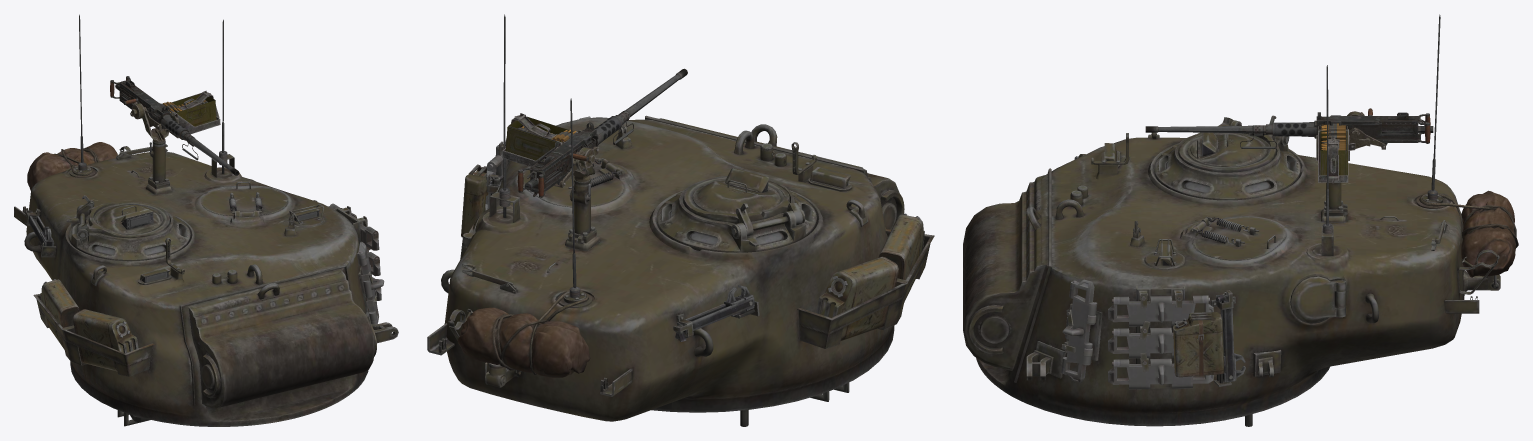
The model's file is turret-m26.glb.
The picture shows the model from 3 angles, left to right: view 1: azimuth 30°, elevation 25°; view 2: azimuth 150°, elevation 25°; view 3: azimuth 270°, elevation 25°; orthographic projection. The views are drawn at different scales.
Visible parts, largest first — view 1: turret; view 2: turret; view 3: turret.
Part boxes in pixels (left/top/right/bottom): turret: left=14, top=14, right=398, bottom=426; turret: left=427, top=14, right=934, bottom=426; turret: left=963, top=14, right=1518, bottom=426.
Size of the model in its own units: 2.2 by 2.03 by 2.79.
7 materials, 7 textured.
